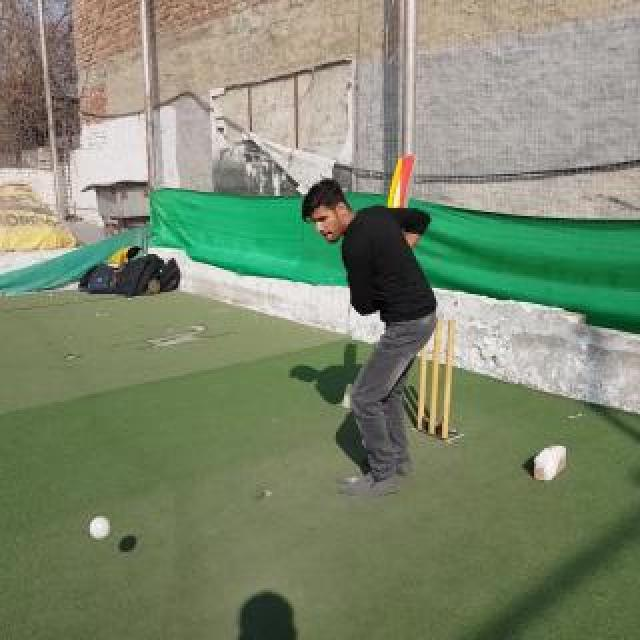ball: (90, 516, 110, 538)
bat: (388, 155, 418, 209)
